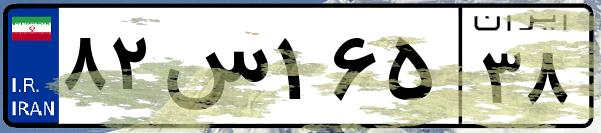1: (270, 28, 330, 110)
2: (110, 28, 158, 98)
3: (475, 38, 525, 113)
5: (385, 28, 445, 110)
6: (330, 28, 385, 110)
8: (57, 26, 110, 100), (525, 38, 570, 115)
س: (158, 20, 270, 120)
